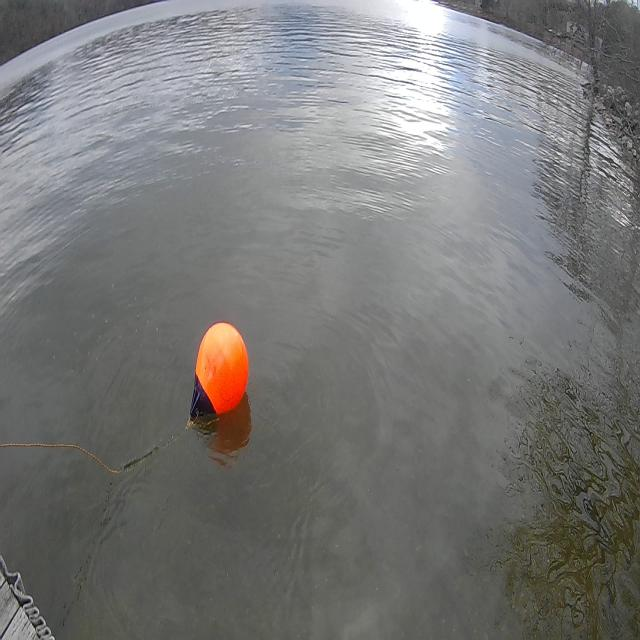Buoy: (195, 321, 249, 417)
